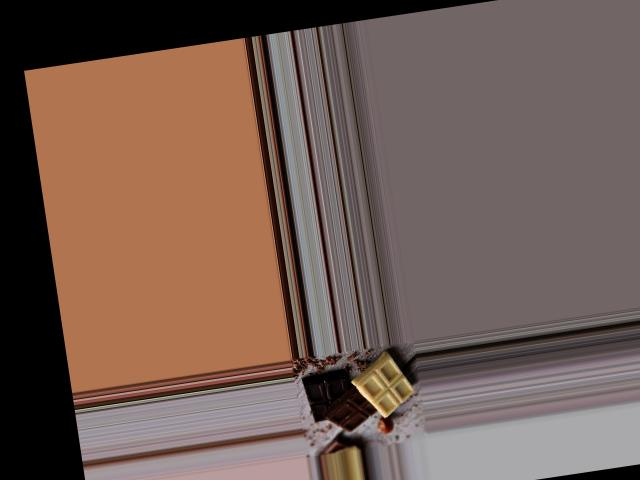chocolate: (295, 354, 418, 438)
